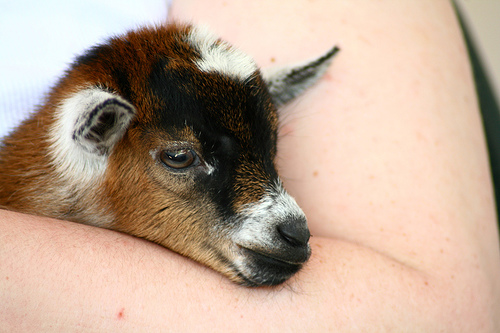goat: (1, 21, 341, 287)
